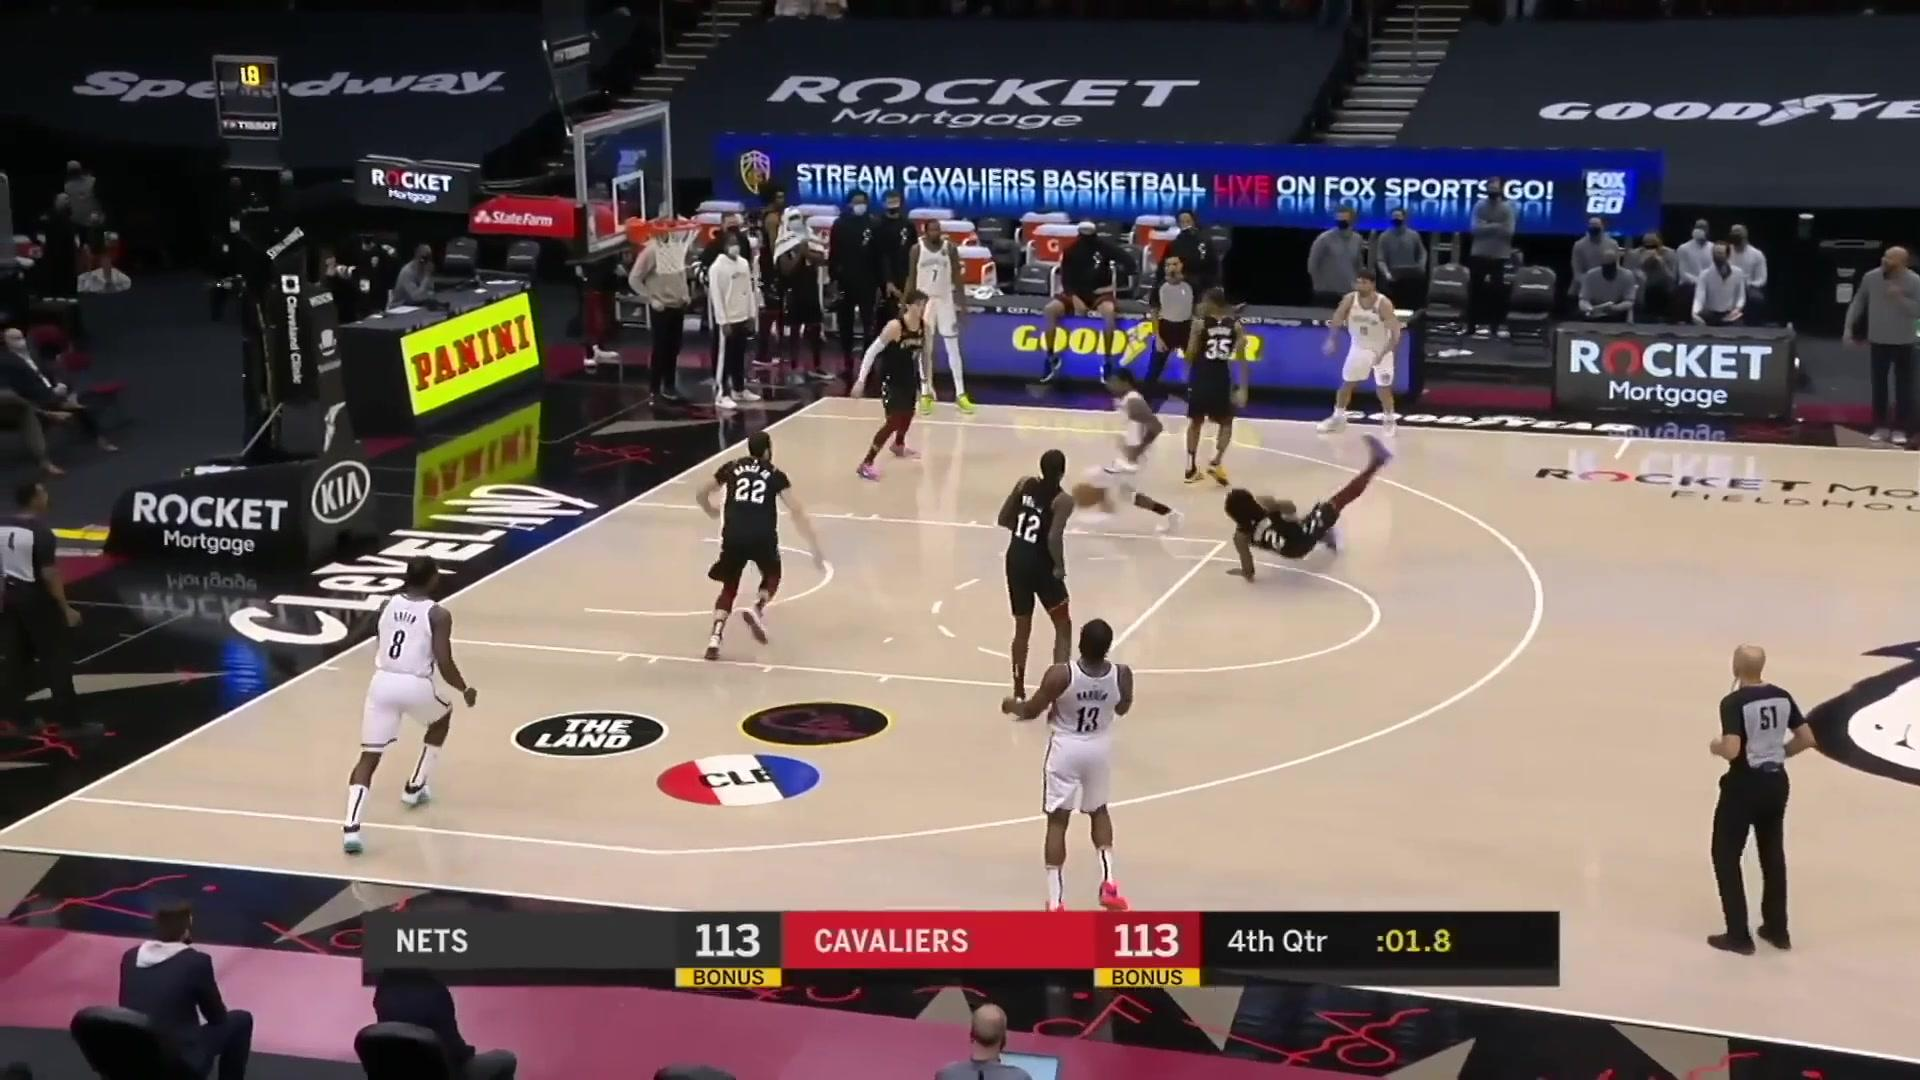no_foul: (837, 207, 1005, 487)
